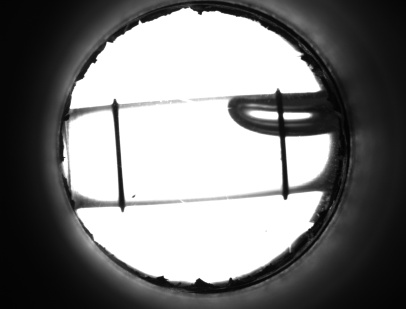line: (108, 117, 129, 193), (276, 143, 293, 182)
